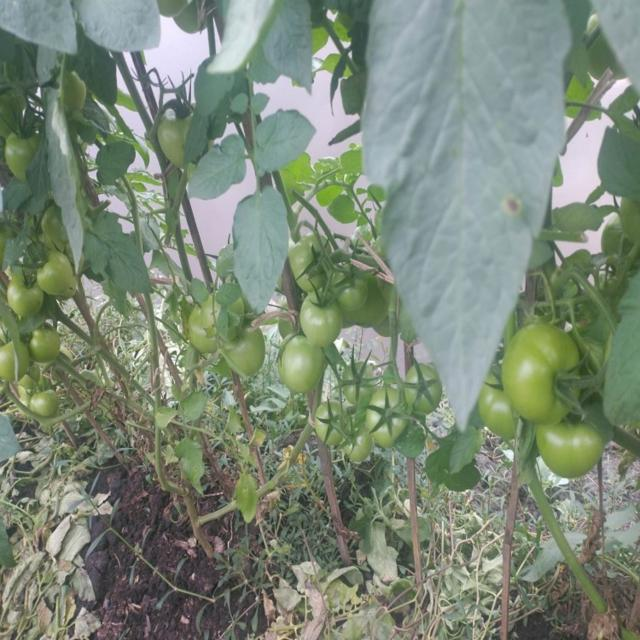tomato: (503, 322, 581, 431), (537, 425, 610, 483), (368, 390, 414, 446), (291, 236, 333, 297), (42, 251, 87, 307), (300, 292, 342, 346), (156, 104, 192, 163), (408, 358, 445, 414), (7, 120, 38, 184), (287, 341, 327, 390), (8, 272, 44, 326), (483, 380, 515, 440), (225, 320, 262, 370), (192, 301, 224, 352), (314, 408, 351, 451), (17, 375, 55, 415), (340, 362, 381, 399), (362, 280, 392, 329), (1, 334, 25, 384), (34, 323, 60, 362), (337, 269, 359, 312), (345, 432, 373, 464), (65, 78, 88, 109)
